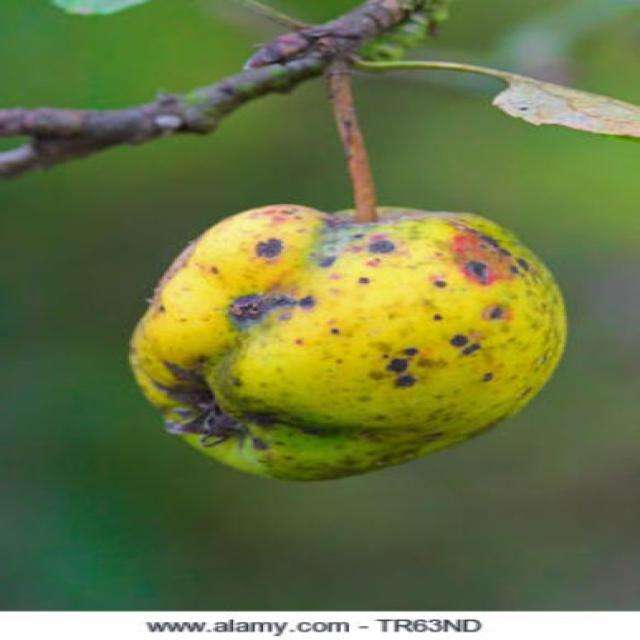Rotten Apple: (118, 173, 606, 503)
